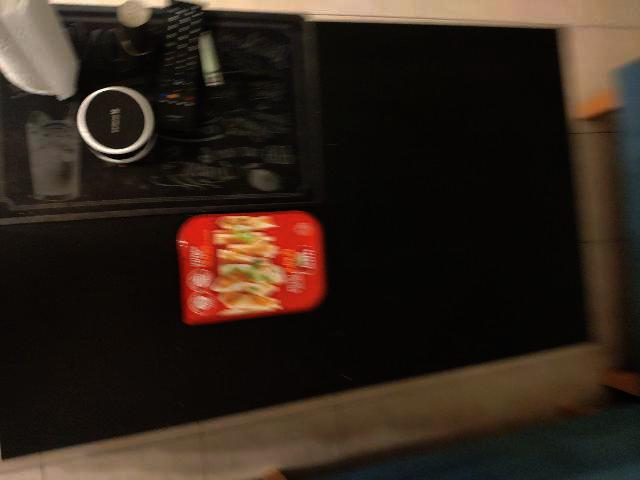cheese: (179, 209, 328, 328)
